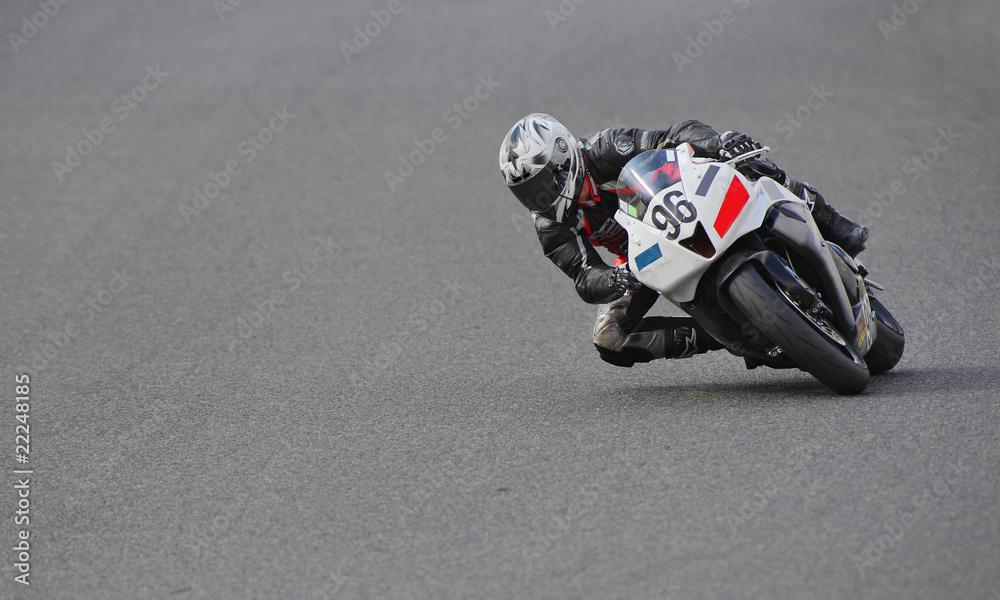helmet: (498, 112, 586, 230)
